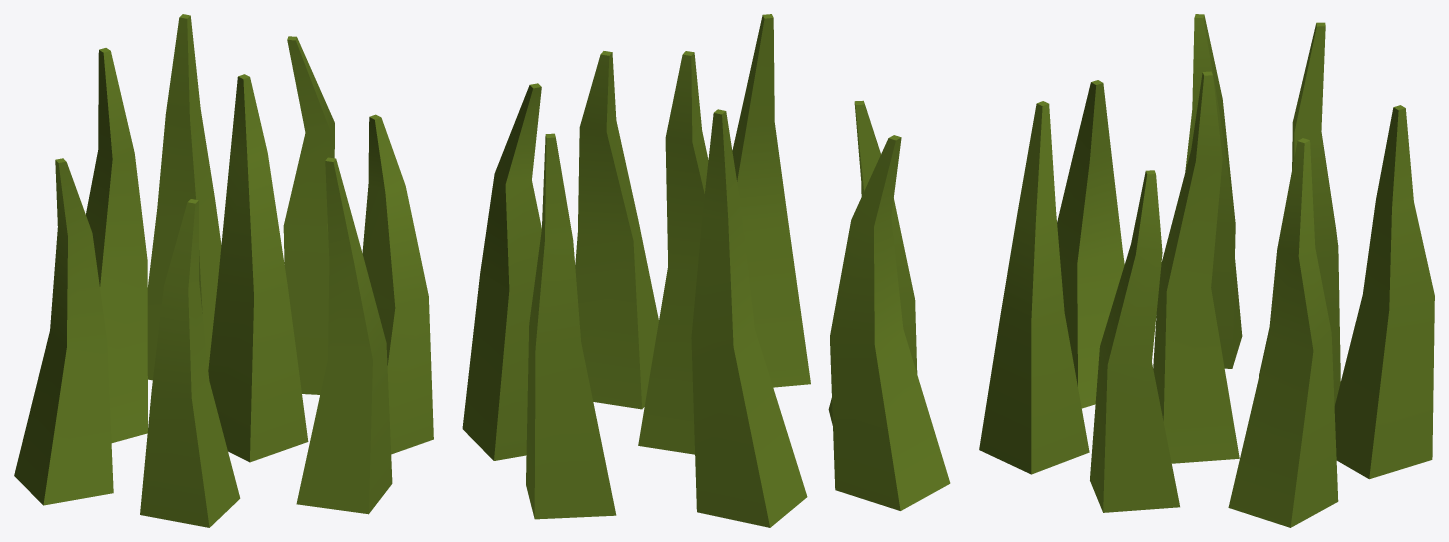
Rendered from Grass_3_low.fbx.
The picture shows the model from 3 angles, left to right: view 1: azimuth 30°, elevation 25°; view 2: azimuth 150°, elevation 25°; view 3: azimuth 270°, elevation 25°; orthographic projection. The views are drawn at different scales.
Parts seen in each view (by area): view 1: Grass_3_low; view 2: Grass_3_low; view 3: Grass_3_low.
Part boxes in pixels (x1,y1,x2,y2): Grass_3_low: [14, 14, 433, 527]; Grass_3_low: [462, 14, 950, 527]; Grass_3_low: [979, 14, 1434, 527].
Bounding box in the file's own units: 0.4025 × 0.3606 × 0.3958.
